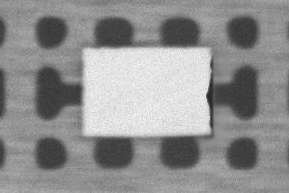DIE_BROKEN: (204, 54, 214, 129)
